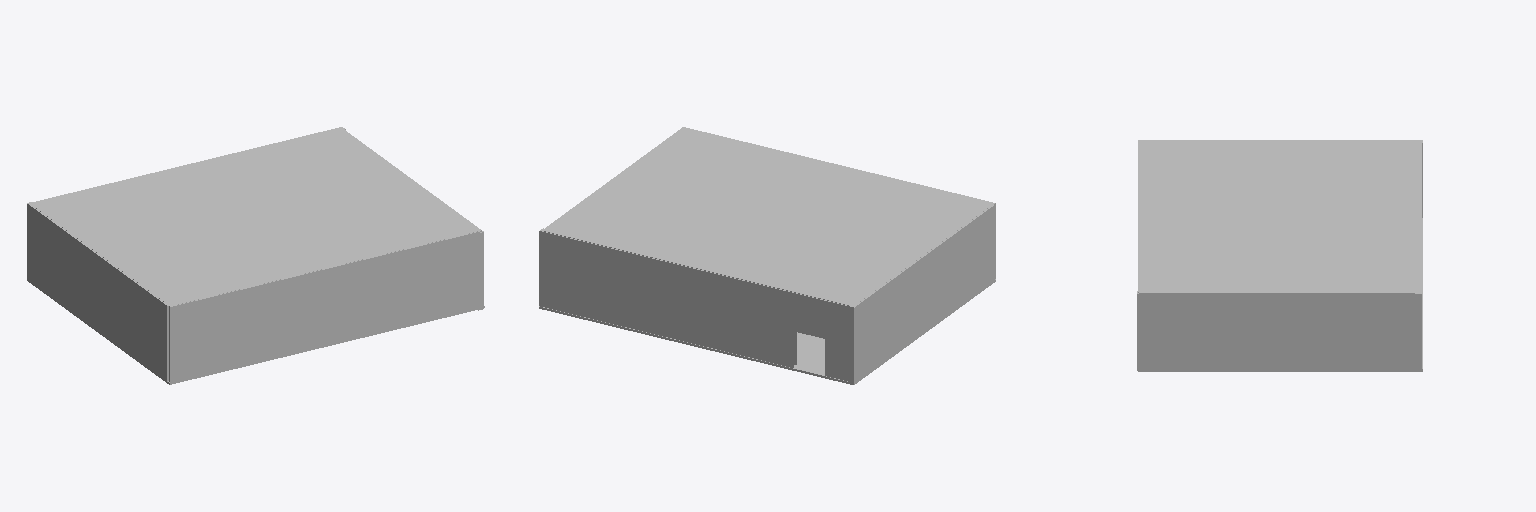
Rendered from maz.obj.
The picture shows the model from 3 angles: view 1: azimuth 30°, elevation 25°; view 2: azimuth 150°, elevation 25°; view 3: azimuth 270°, elevation 25°; orthographic projection.
Visible parts, largest first — view 1: Cubo.007_Cubo.009; view 2: Cubo.007_Cubo.009; view 3: Cubo.007_Cubo.009.
Part boxes in pixels (x1,y1,x2,y2): Cubo.007_Cubo.009: (27,127,484,384); Cubo.007_Cubo.009: (539,127,995,384); Cubo.007_Cubo.009: (1137,140,1422,371).
Bounding box in the file's own units: 18.81 × 4.47 × 14.77.